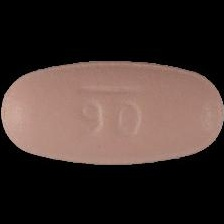54868-5417: (0, 0, 224, 224)
